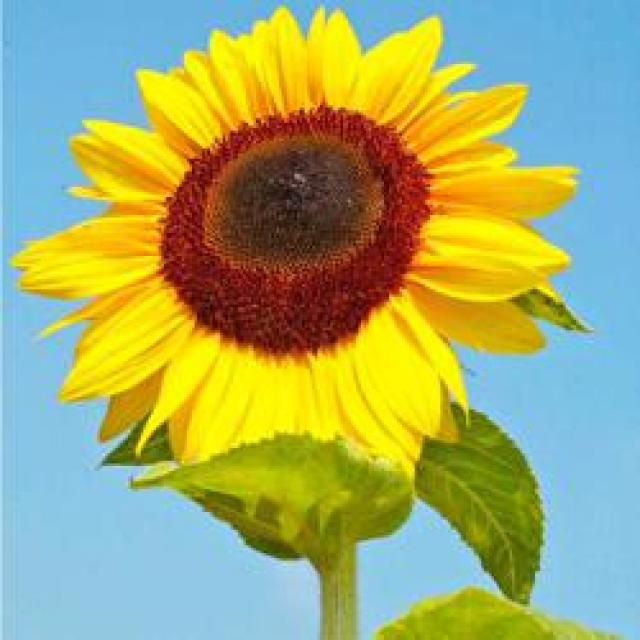sunflower: (1, 0, 585, 502)
